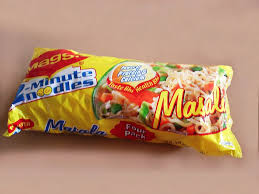maggie: (3, 48, 248, 160)
